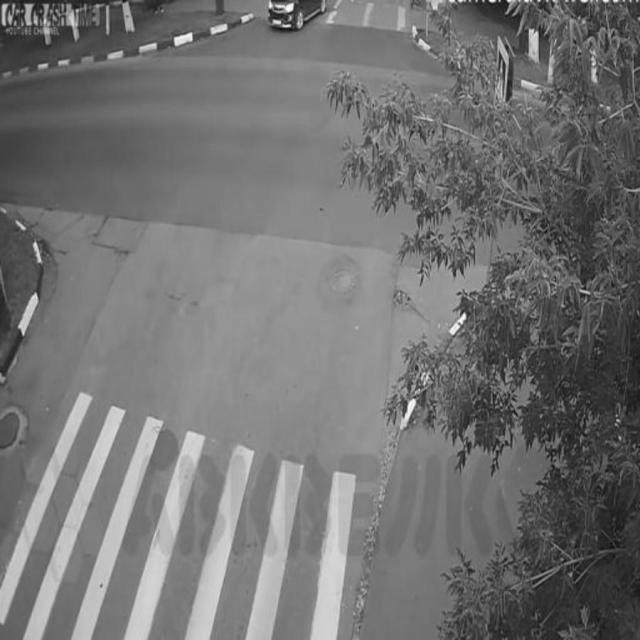vehicle: (265, 3, 332, 29)
